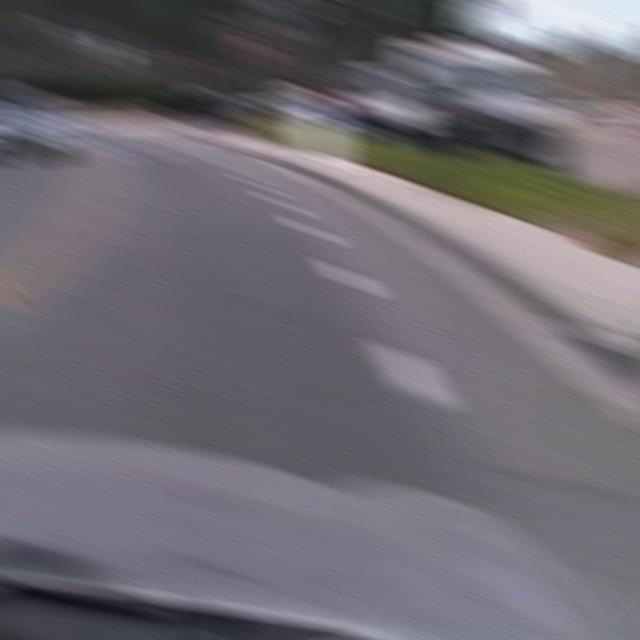stop: (236, 31, 278, 68), (177, 46, 207, 75)
